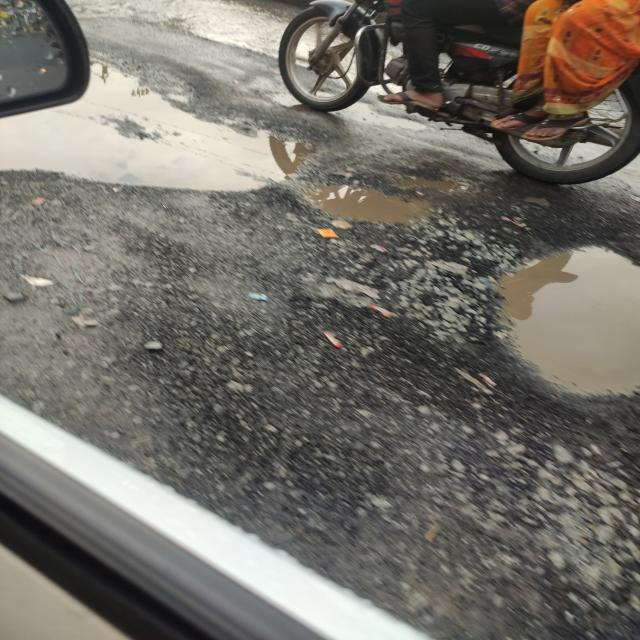potholes: (0, 55, 452, 236), (475, 238, 640, 412)
